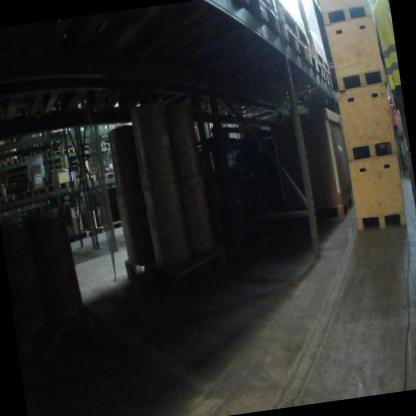pallet: (110, 219, 245, 312), (195, 15, 313, 91), (220, 40, 327, 106), (256, 193, 358, 240), (253, 67, 338, 107), (215, 0, 284, 44), (80, 214, 130, 245), (62, 226, 91, 251), (34, 181, 58, 201), (54, 179, 78, 196), (15, 185, 36, 204), (75, 172, 96, 189), (0, 193, 18, 209), (94, 168, 111, 184), (45, 146, 62, 159), (4, 156, 20, 168), (32, 149, 47, 161), (19, 153, 34, 164), (60, 144, 76, 153), (0, 155, 6, 170)
